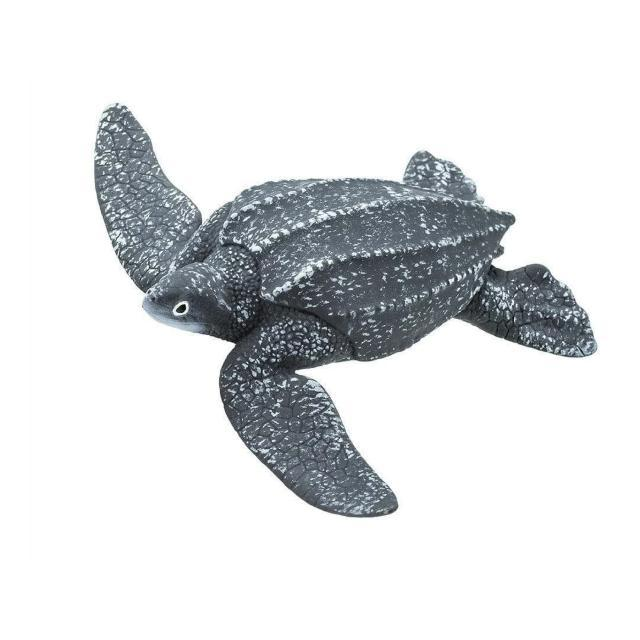turtle: (92, 102, 599, 520)
